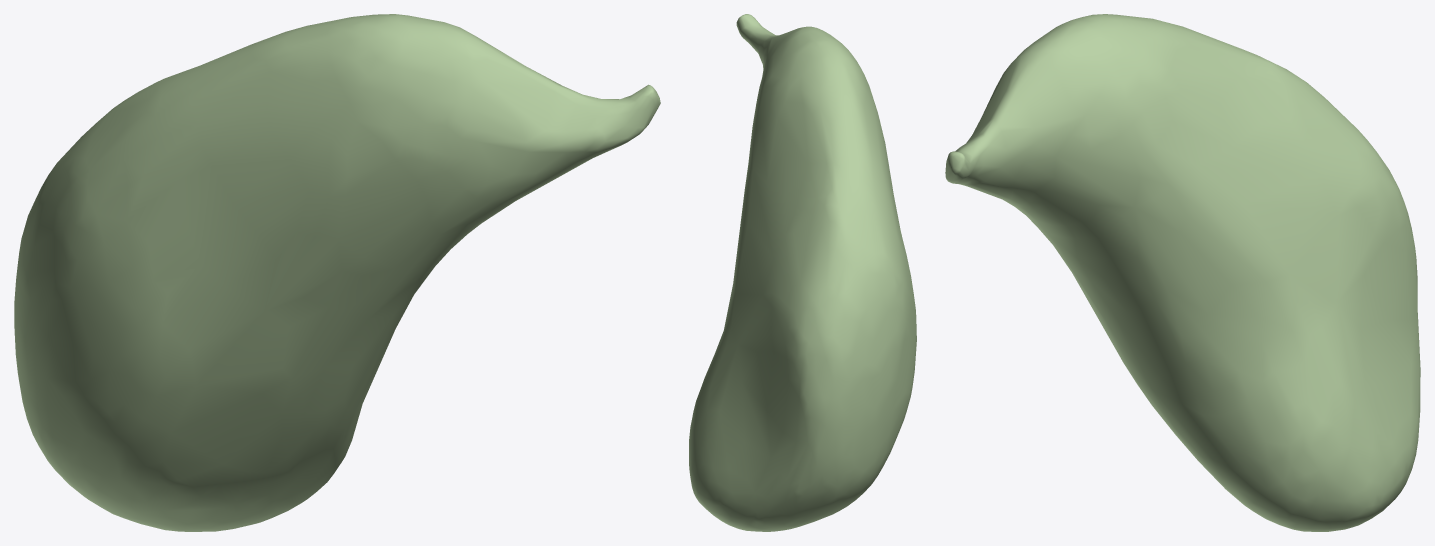
File: gallbladder.glb
3 views of the same model, side by side, from view 1: azimuth 30°, elevation 25°; view 2: azimuth 150°, elevation 25°; view 3: azimuth 270°, elevation 25° (orthographic). The views are drawn at different scales.
Visible parts, largest first — view 1: gallbladder; view 2: gallbladder; view 3: gallbladder.
Part boxes in pixels (x1,y1,x2,y2): gallbladder: (14, 14, 660, 531); gallbladder: (689, 14, 916, 531); gallbladder: (945, 14, 1420, 531).
Bounding box in the file's own units: 36.44 × 48.41 × 40.42.
